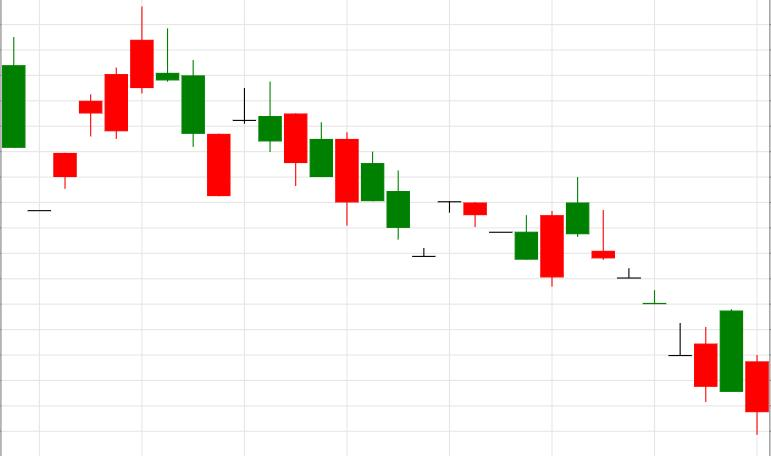bullish_engulfing_rise: (438, 201, 564, 287)
